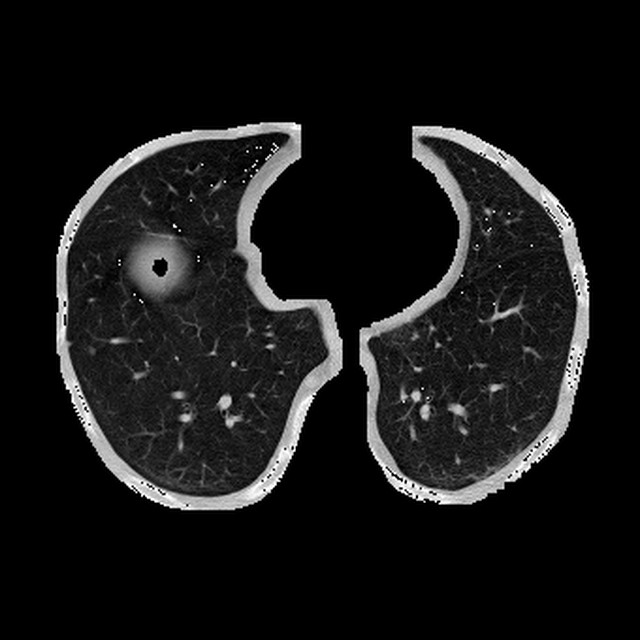PN: (87, 346, 94, 354)
